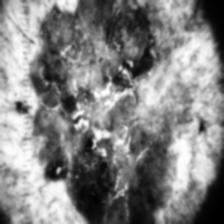Potentially Malignant Skin Tumors: (26, 0, 170, 224)
